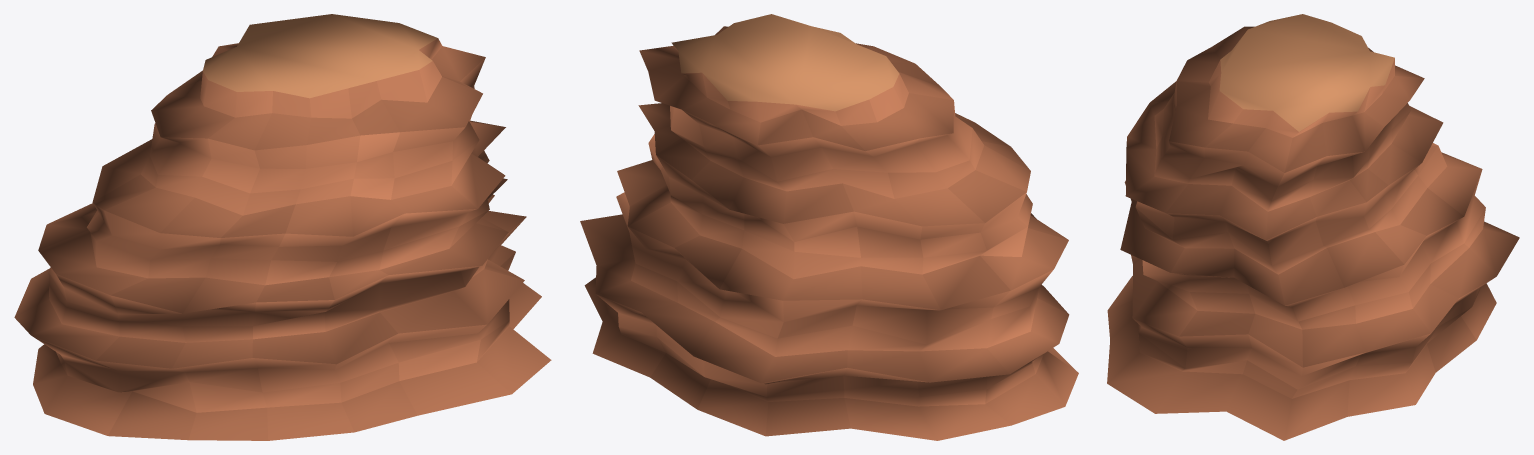
The model's file is mesa-crown.glb.
3 renders of one model, left to right at view 1: azimuth 30°, elevation 25°; view 2: azimuth 150°, elevation 25°; view 3: azimuth 270°, elevation 25°, orthographic. The views are drawn at different scales.
Parts seen in each view (by area): view 1: mesa-crown; view 2: mesa-crown; view 3: mesa-crown.
Part boxes in pixels (x1,y1,x2,y2): mesa-crown: (14,14,551,440); mesa-crown: (580,14,1078,440); mesa-crown: (1107,14,1519,440).
Size of the model in its own units: 143 by 79.82 by 108.
